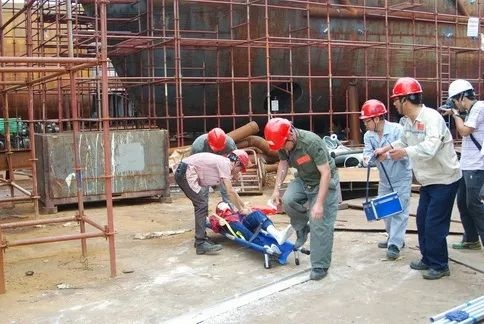falling: (205, 195, 308, 270)
